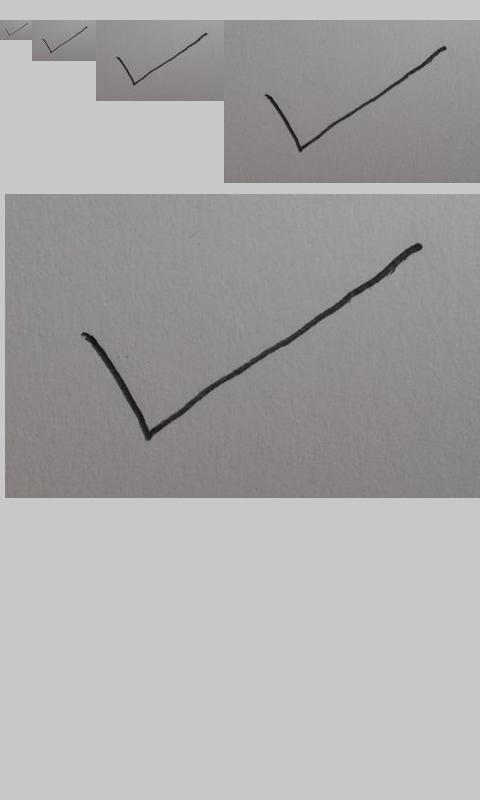check_box: (79, 240, 424, 442), (264, 46, 448, 152), (116, 33, 207, 86), (42, 26, 87, 53), (4, 23, 27, 37)
